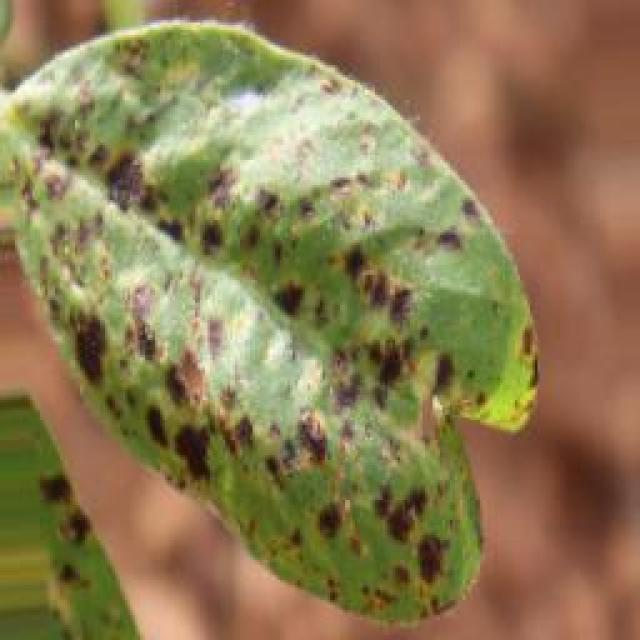Yellowish: (0, 0, 552, 637)
